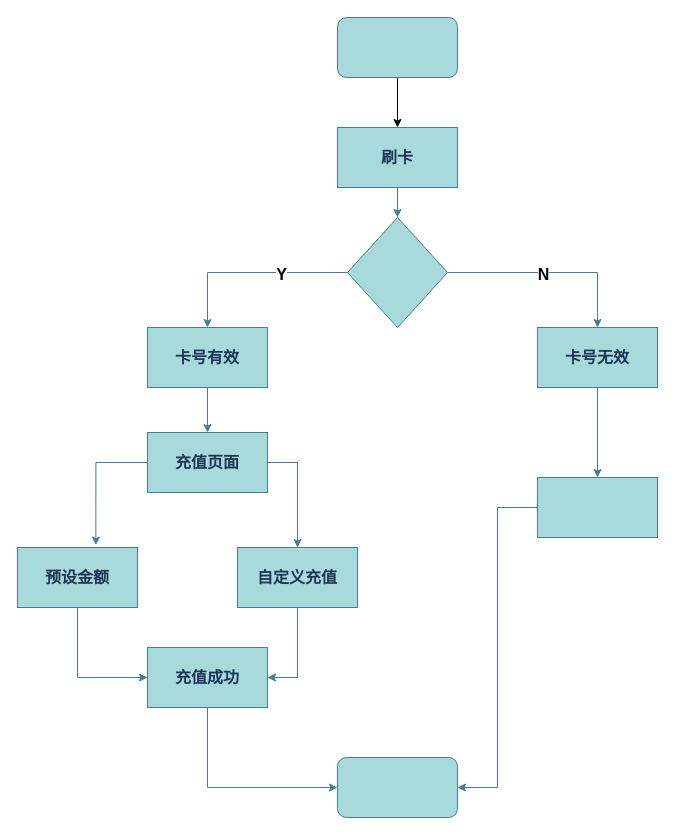
This 675x835 diagram has some shape labels left out. The centre of each missing label's shape, as x and y in pixels:
"刷卡失败" goes at (597,507).
"开始" goes at (397,47).
"结束" goes at (397,787).
"验证卡号" goes at (397,272).
